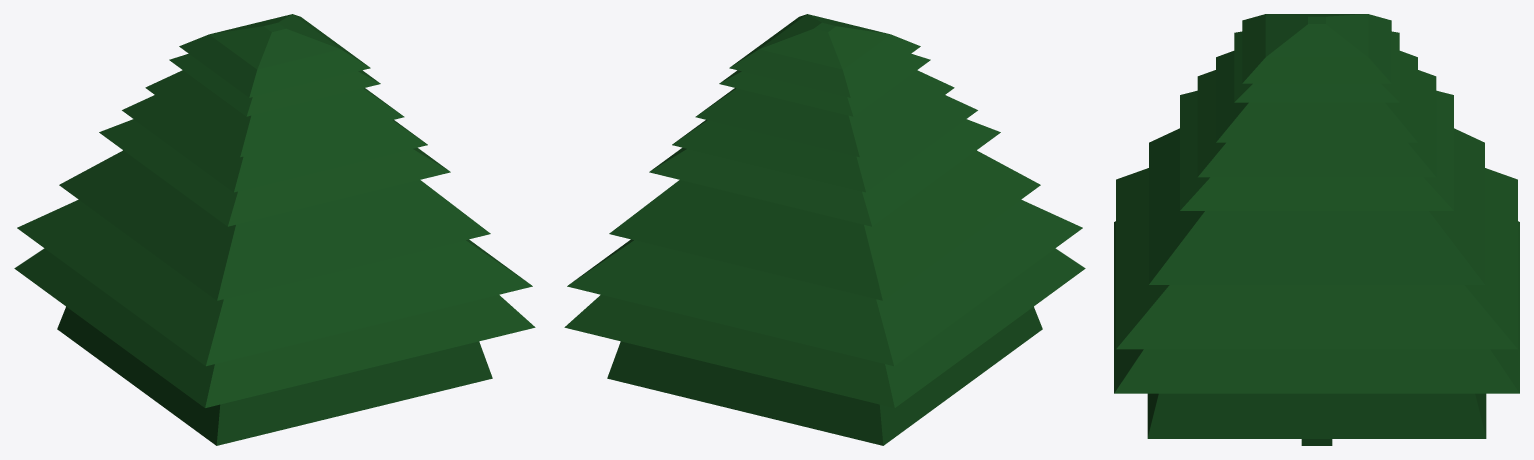
The model's file is basicThree3.glb.
3 renders of one model, left to right at view 1: azimuth 30°, elevation 25°; view 2: azimuth 150°, elevation 25°; view 3: azimuth 270°, elevation 25°, orthographic. The views are drawn at different scales.
Parts seen in each view (by area): view 1: Cube; view 2: Cube; view 3: Cube.
Boxes of the visible parts, bbox=[...] form: Cube: bbox=[14, 14, 535, 445]; Cube: bbox=[564, 14, 1085, 445]; Cube: bbox=[1114, 14, 1519, 445].
Size of the model in its own units: 5.3 by 6.04 by 5.3.
